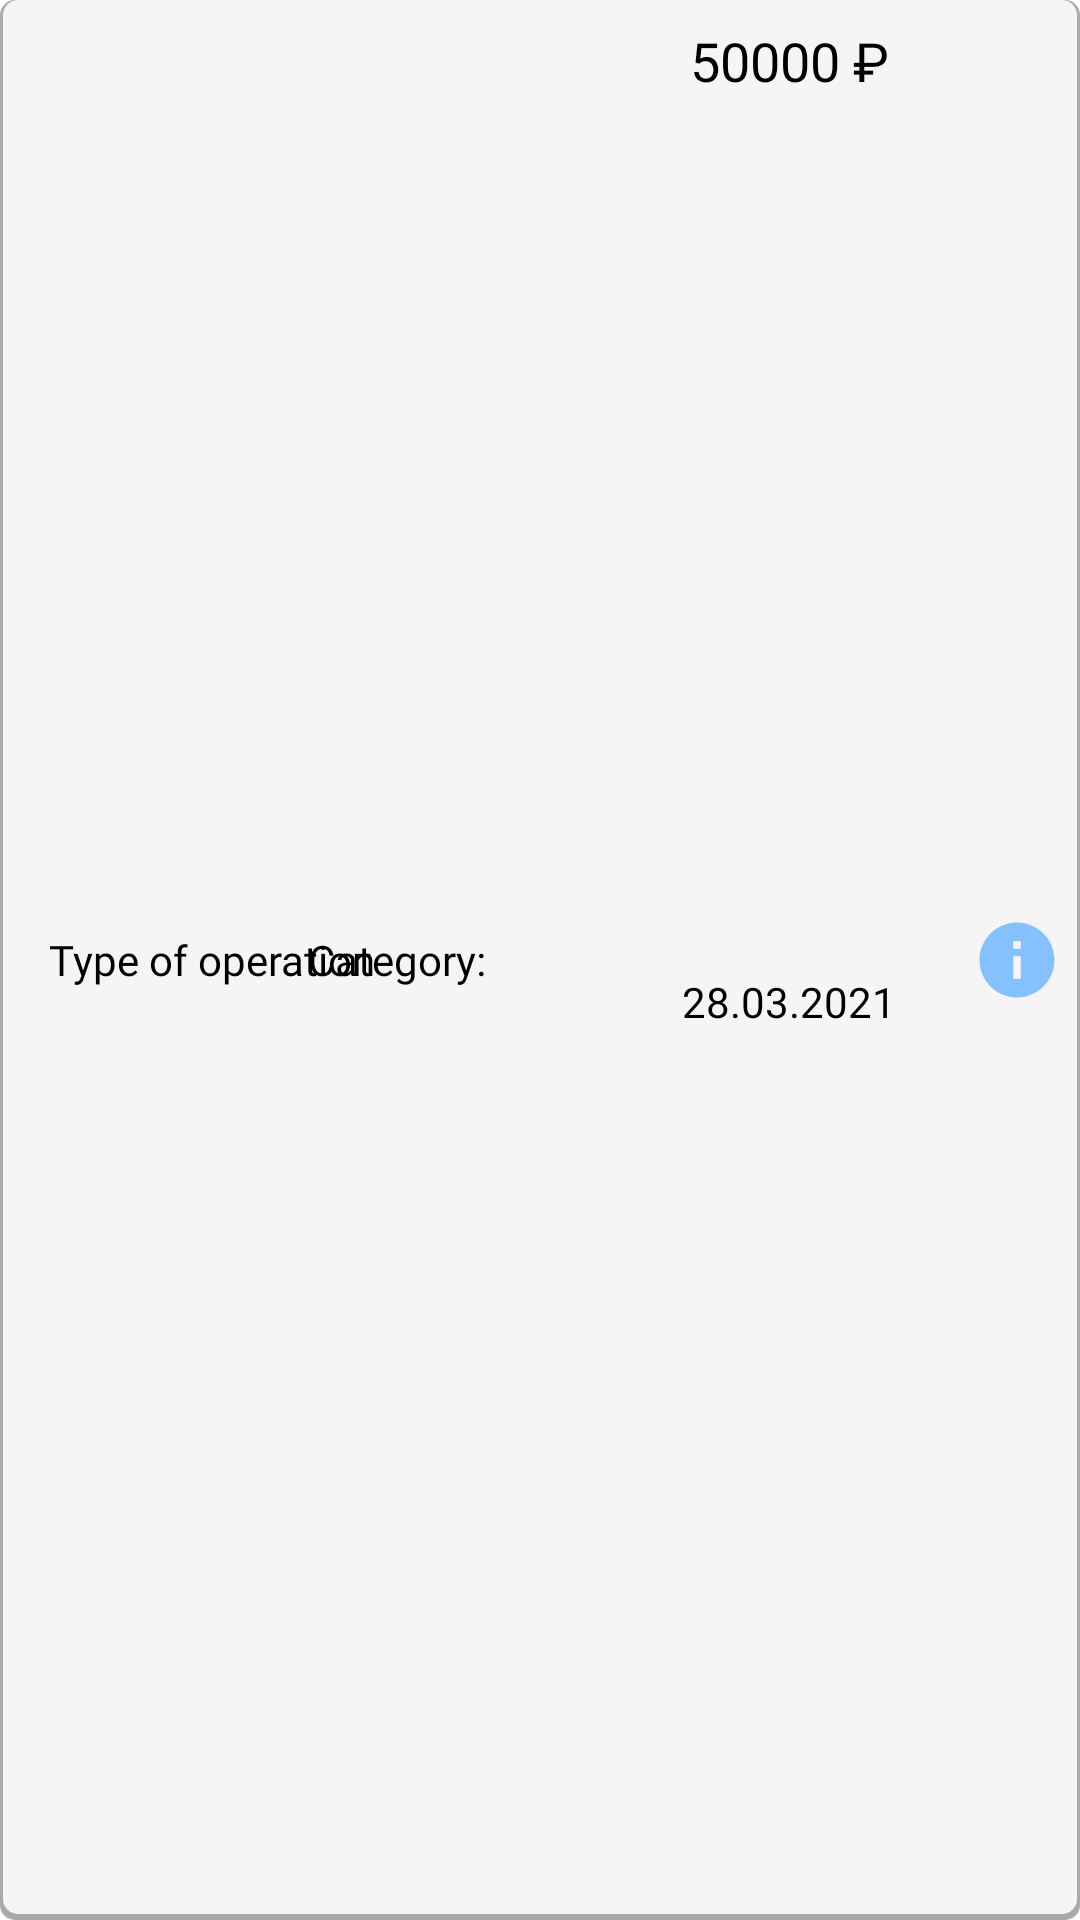

Point at icon controls on the screen. Image size 1080px x 1920px, points as (x=x, y=y).
info: (x=1017, y=960)
